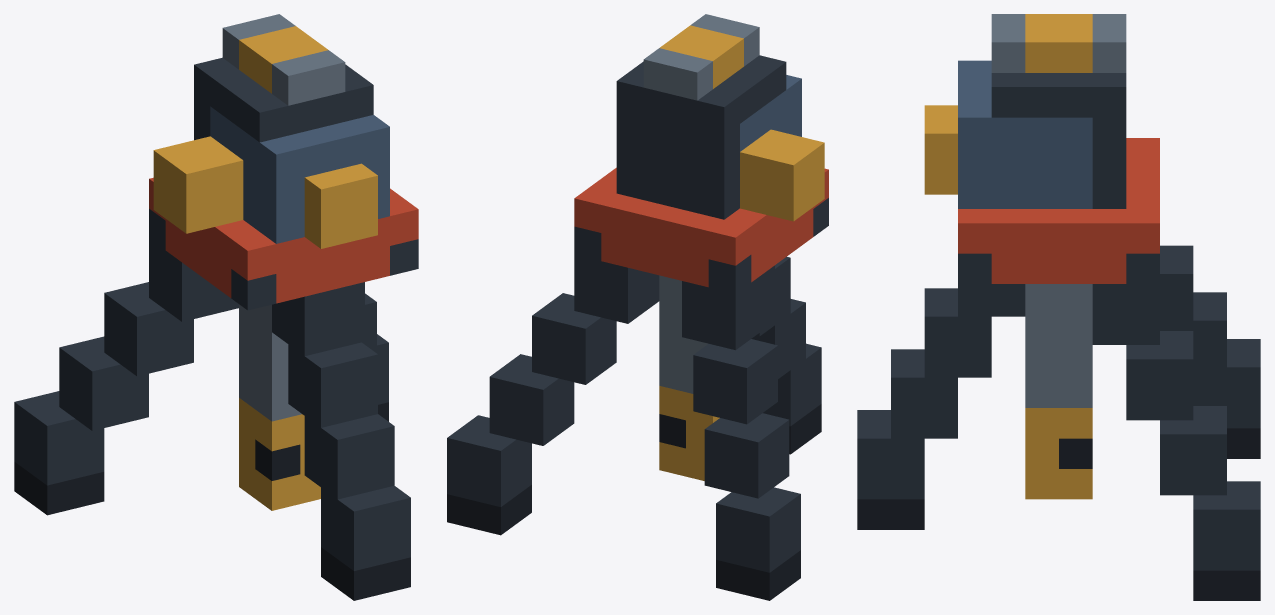
Rendered from portable_core_drill.glb.
3 views of the same model, side by side, from view 1: azimuth 30°, elevation 25°; view 2: azimuth 150°, elevation 25°; view 3: azimuth 270°, elevation 25° (orthographic). The views are drawn at different scales.
Visible parts, largest first — view 1: prop; view 2: prop; view 3: prop.
Boxes of the visible parts, <box> form: prop: <box>14,14,418,600</box>; prop: <box>447,14,828,600</box>; prop: <box>857,14,1260,600</box>.
Bounding box in the file's own units: 12 × 16 × 12.
